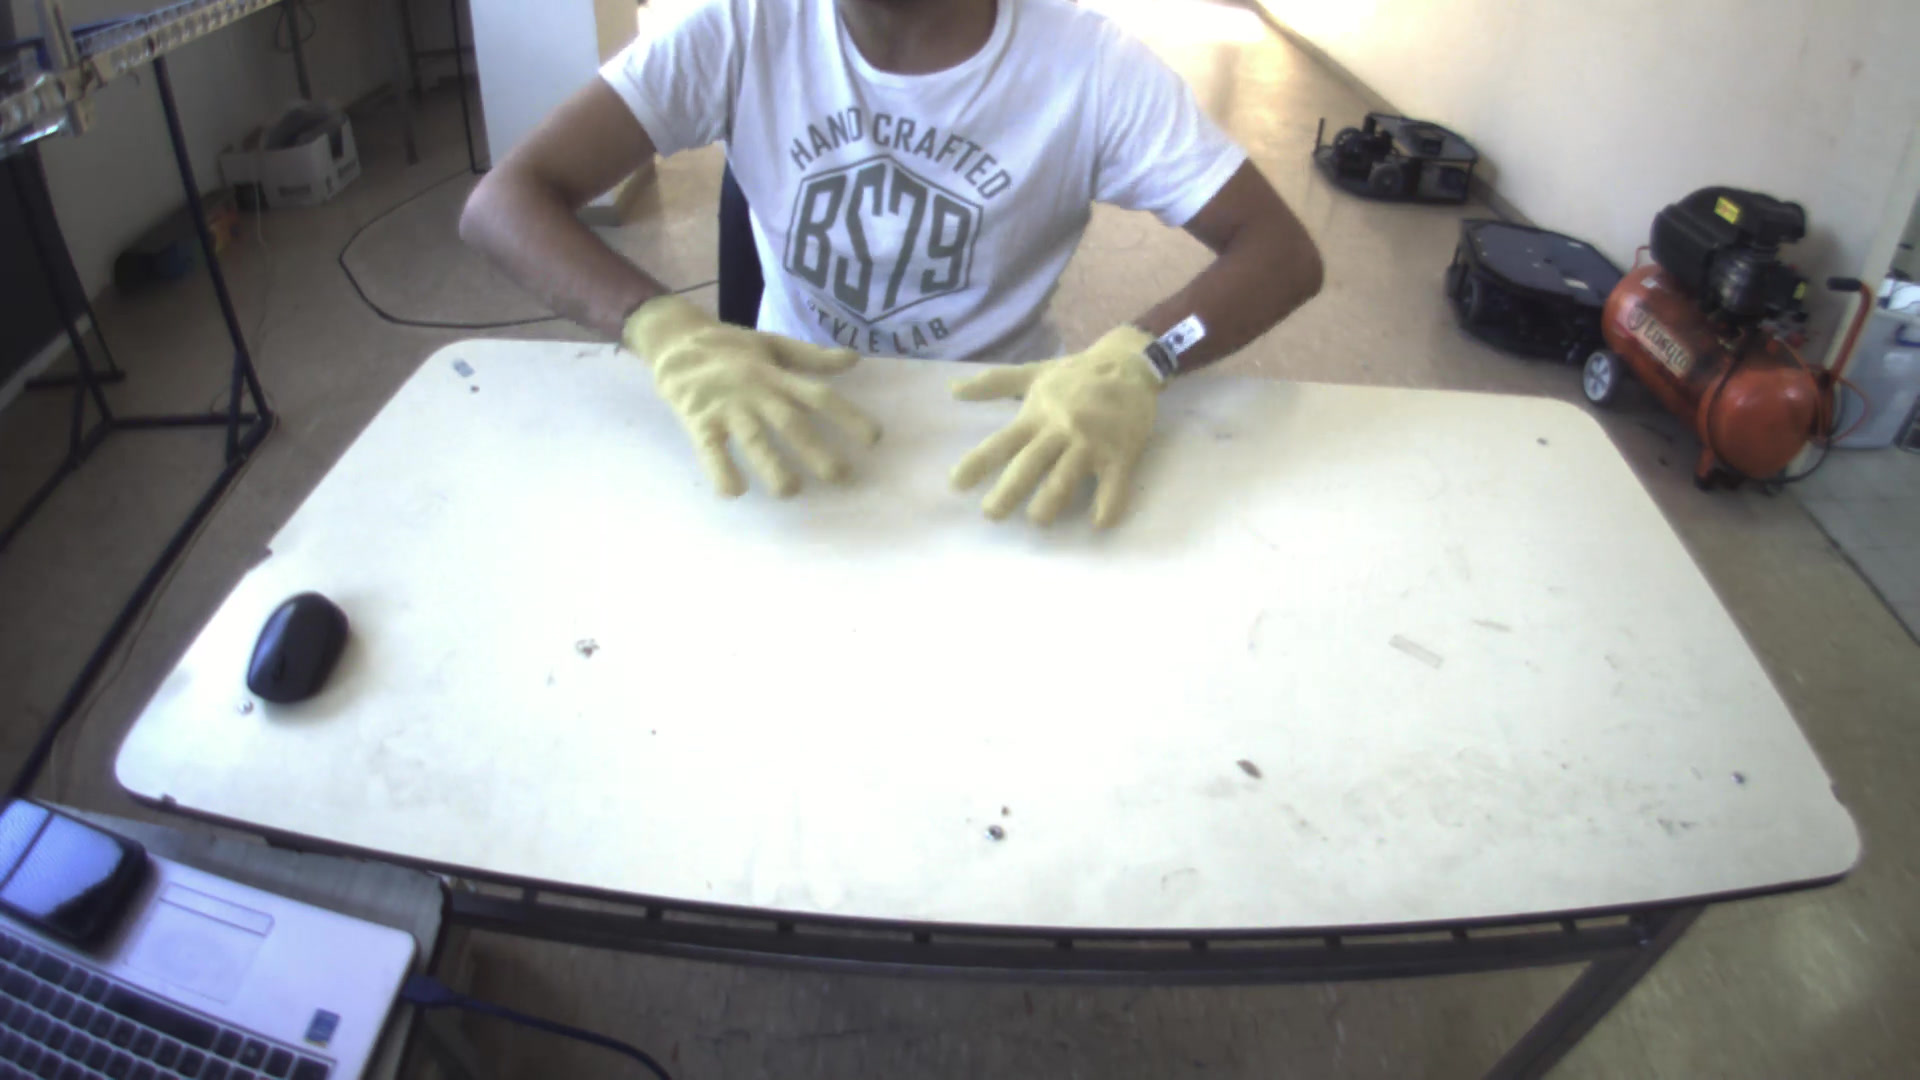hand: (611, 284, 876, 501), (932, 313, 1189, 533)
